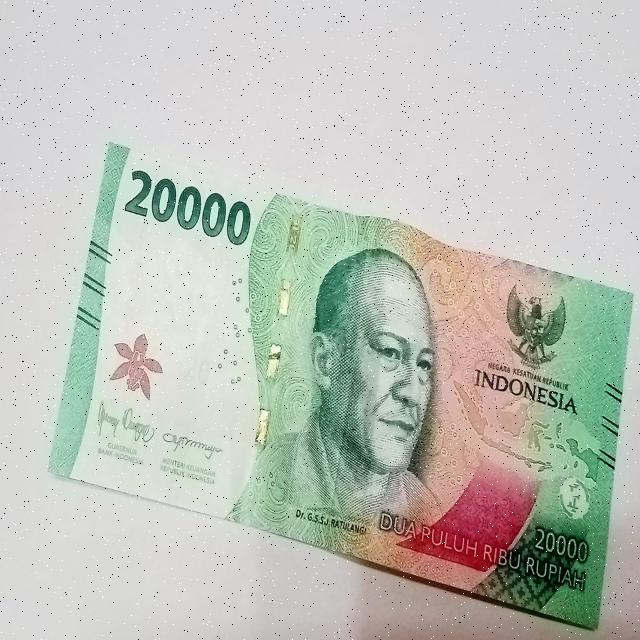20K: (41, 118, 640, 640)
